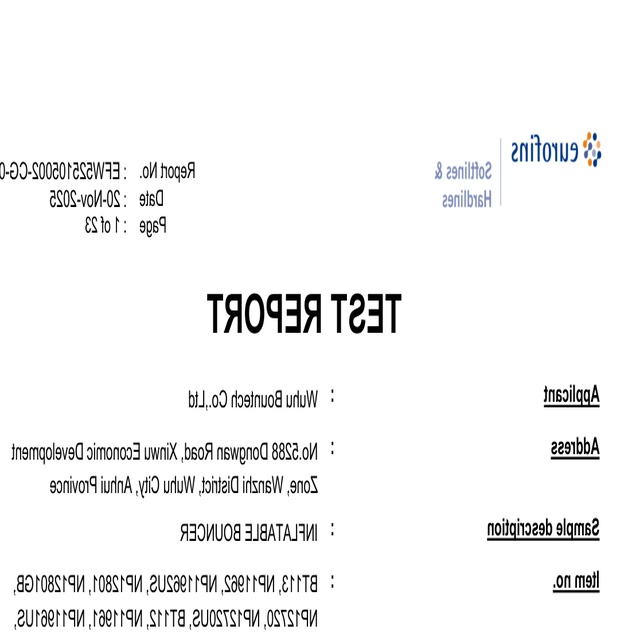eurofins: (504, 130, 609, 174)
